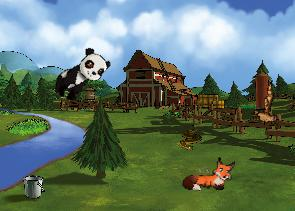eagle: (240, 80, 293, 138)
fox: (182, 156, 235, 192)
panda: (48, 43, 113, 108)
